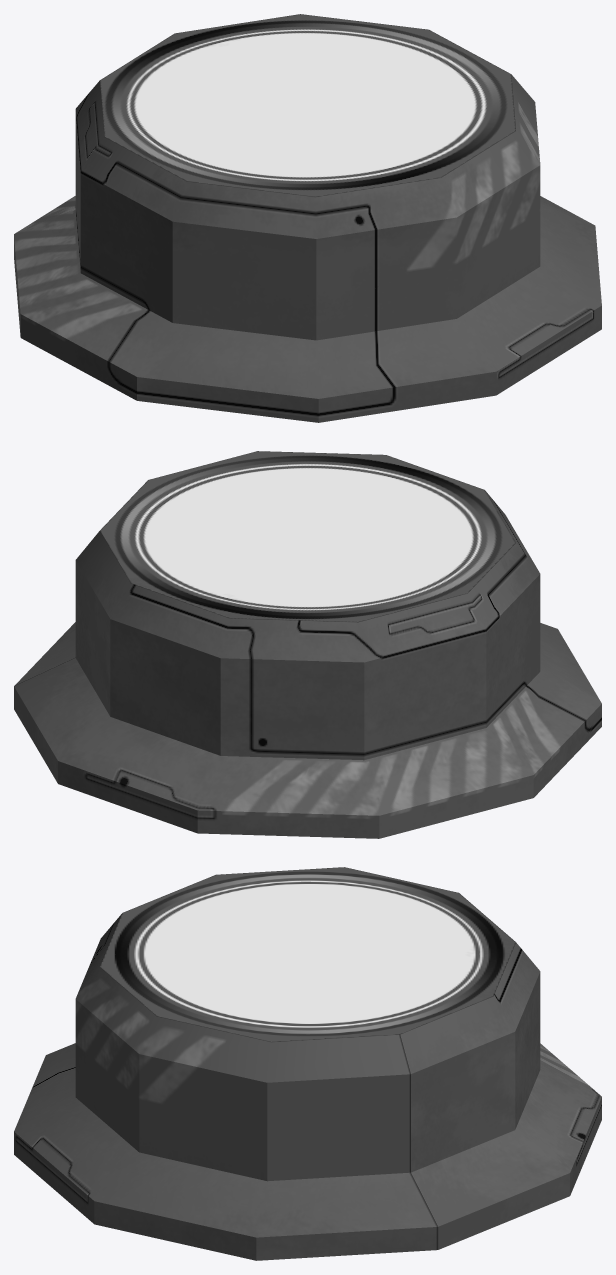
Rendered from suit_platform.FBX.
3 views of the same model, one above another, from view 1: azimuth 30°, elevation 25°; view 2: azimuth 150°, elevation 25°; view 3: azimuth 270°, elevation 25° (orthographic). The views are drawn at different scales.
Parts seen in each view (by area): view 1: Cylinder004; view 2: Cylinder004; view 3: Cylinder004.
Boxes of the visible parts, x1,y1,x2,y2 form: Cylinder004: (14, 14, 601, 422); Cylinder004: (14, 451, 601, 838); Cylinder004: (14, 867, 601, 1260).
Size of the model in its own units: 20.65 by 7.12 by 20.76.
